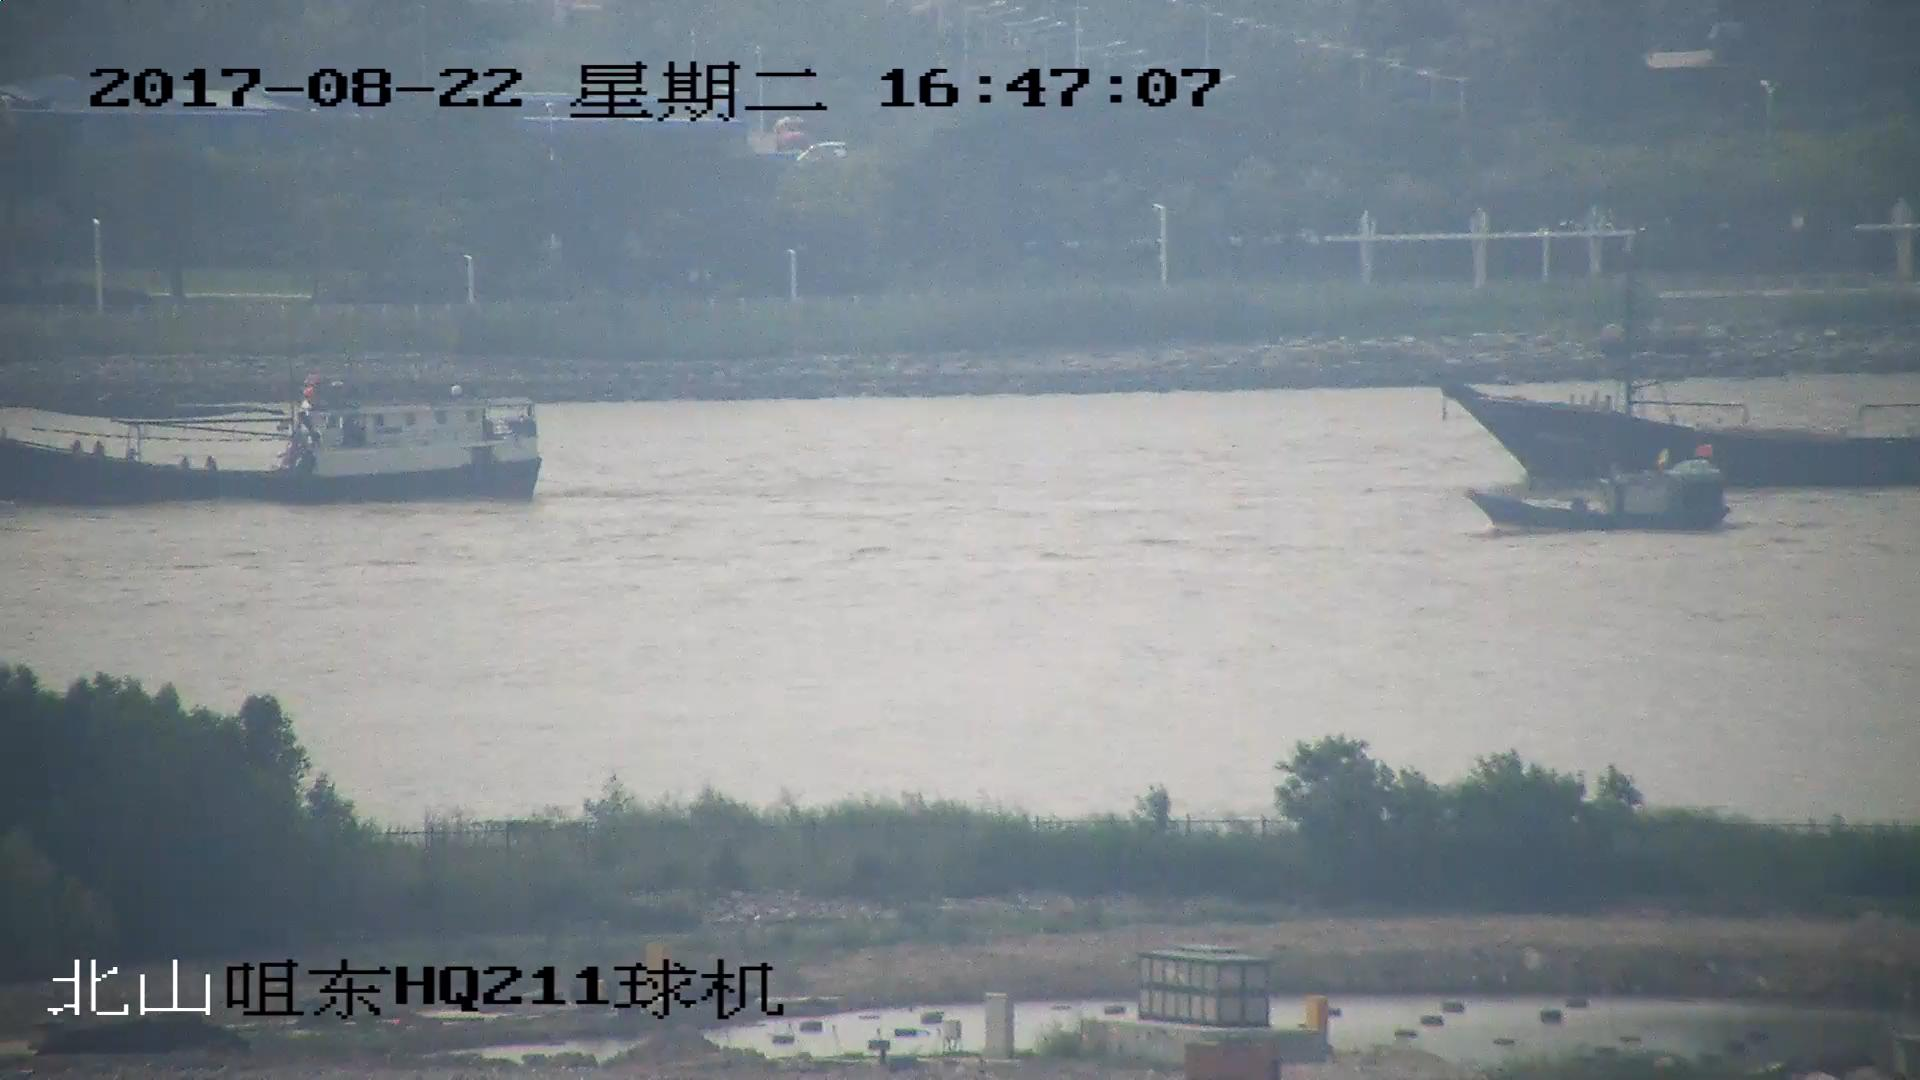fishing boat: (1429, 244, 1920, 489), (1, 371, 548, 505), (1474, 454, 1725, 539)
